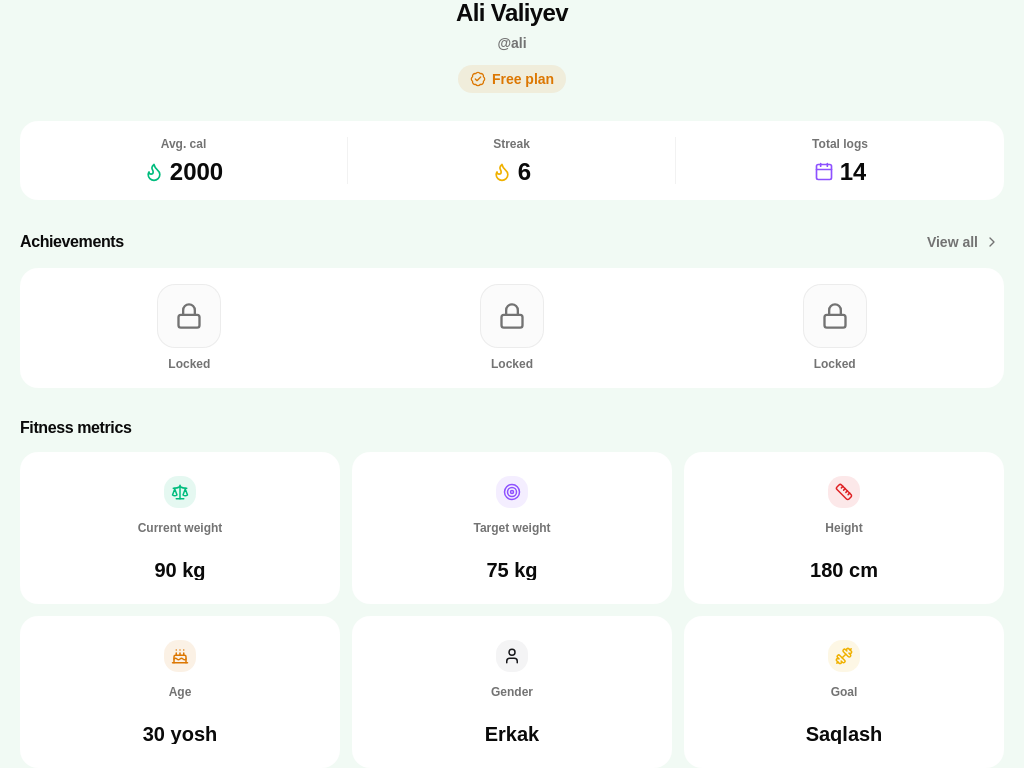
it: ProfileVitalsCard goal drawers › saves the selected goal immediately and opens macro targets
(page scrolled)
Click the button "Goal Saqlash". click: x=844, y=692
box: 684,616 -> 1004,767
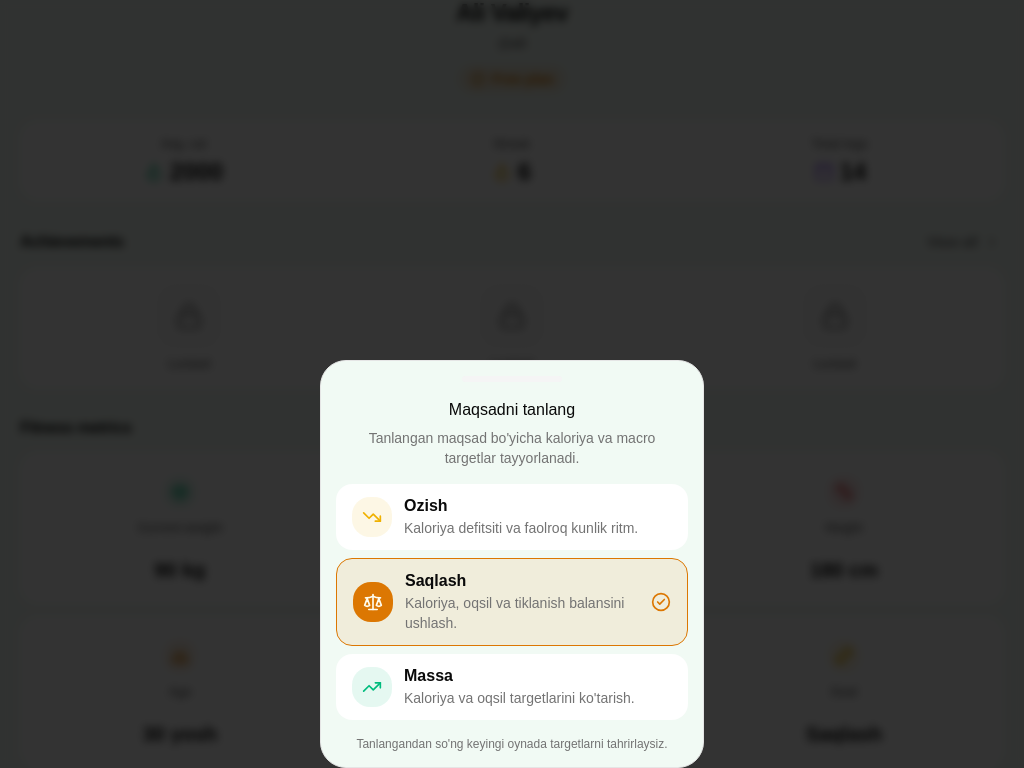
Click the button "Massa Kaloriya va oqsil targetlarini ko'tarish.". click: x=512, y=687
box: 336,654 -> 688,720
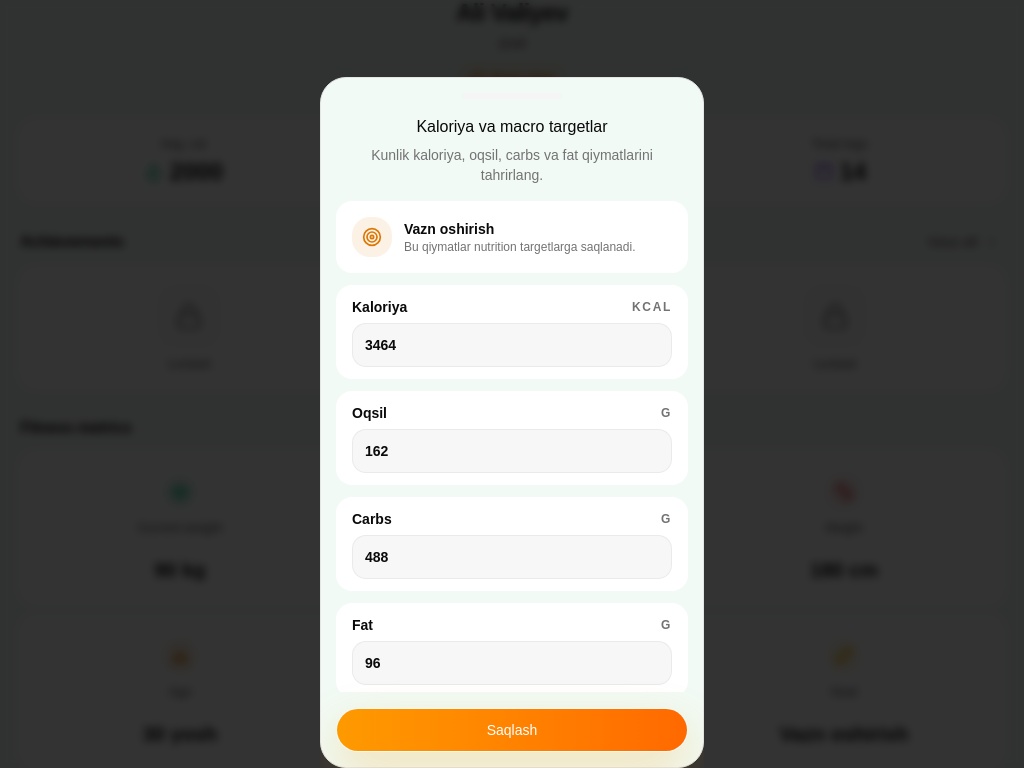
Now the heading "Kaloriya va macro targetlar" is shown, box 416,115 -> 608,139
Now the number field labelled "Kaloriya" holds "3464", box 352,323 -> 672,367
